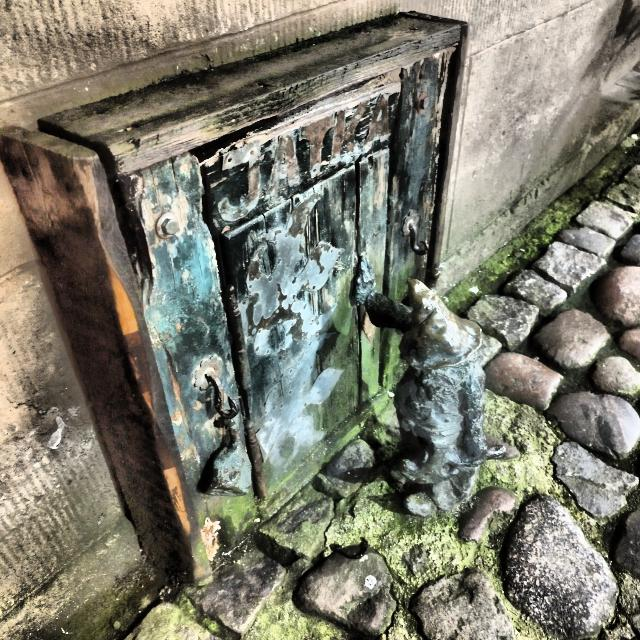Rzeznik: (354, 256, 505, 511)
